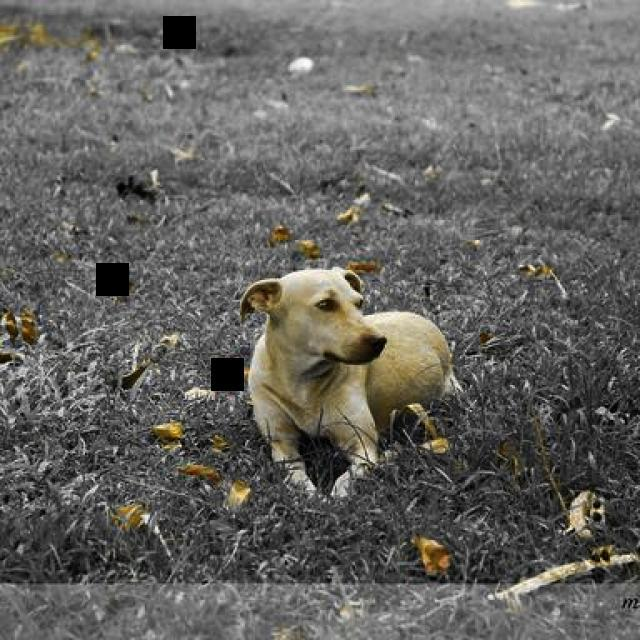adult_dog: (238, 270, 469, 499)
